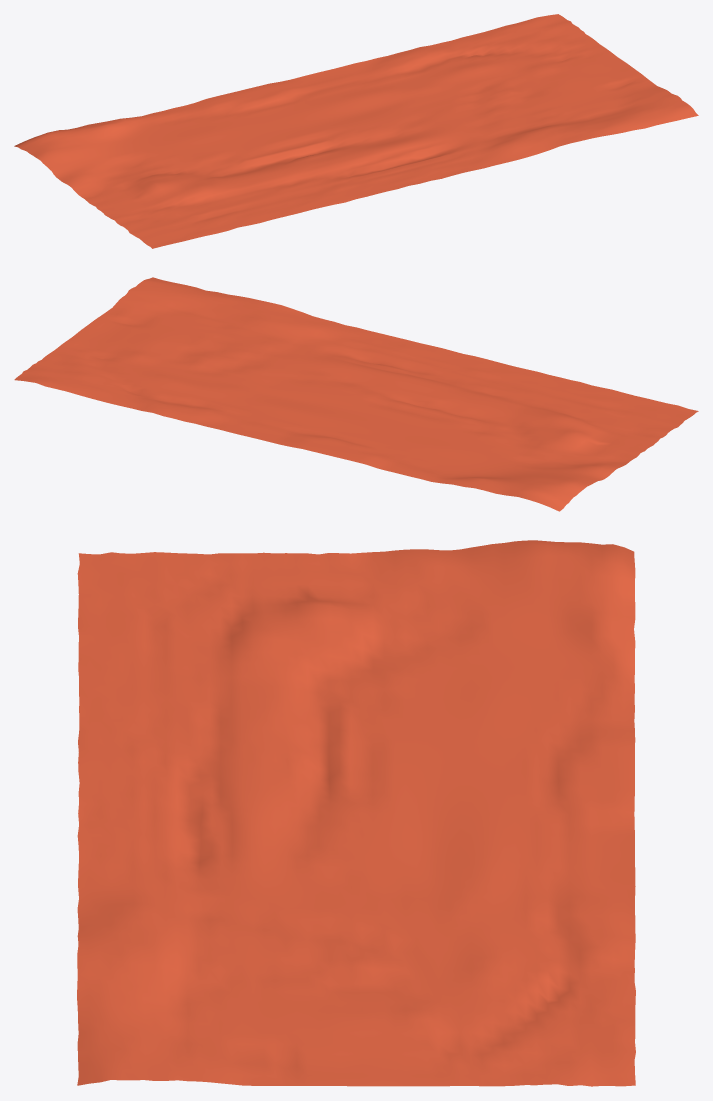
File: Terrain.fbx
3 renders of one model, top to bottom at view 1: azimuth 30°, elevation 25°; view 2: azimuth 150°, elevation 25°; view 3: azimuth 270°, elevation 25°, orthographic. The views are drawn at different scales.
Visible parts, largest first — view 1: Plane.004; view 2: Plane.004; view 3: Plane.004.
Part boxes in pixels (bbox=[...]): Plane.004: bbox=[14, 14, 698, 248]; Plane.004: bbox=[14, 277, 698, 511]; Plane.004: bbox=[77, 540, 635, 1086].
Size of the model in its own units: 16980 by 431 by 7496.
